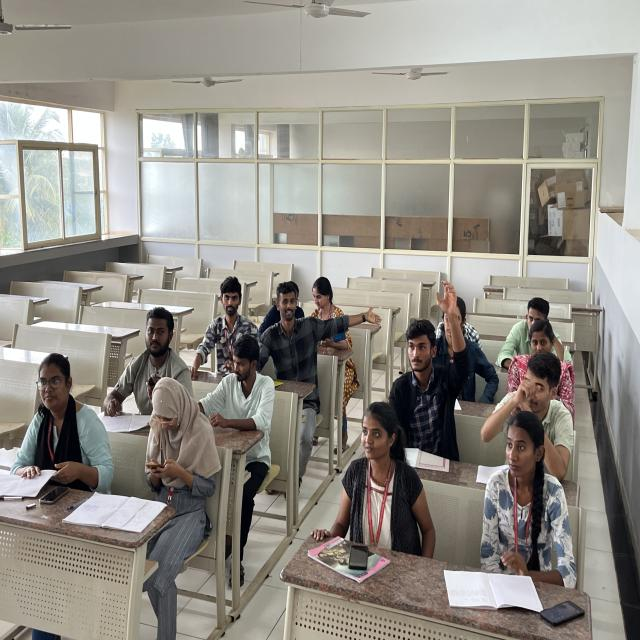Hand Rising: (390, 280, 468, 441)
Using Phone: (137, 369, 229, 501), (126, 309, 199, 409)
